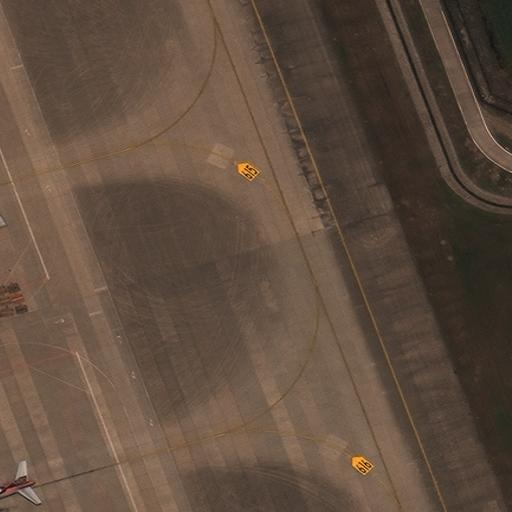Large Civil Transport: (0, 466, 35, 511)
